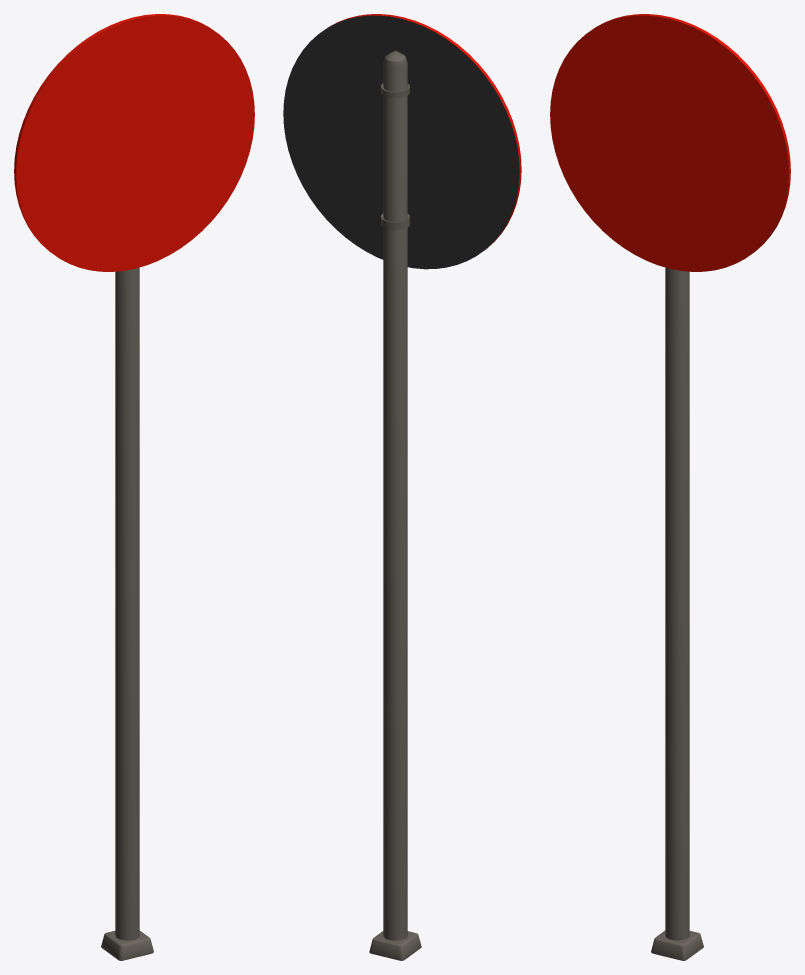
Rendered from street_sign2.fbx.
3 views of the same model, side by side, from view 1: azimuth 30°, elevation 25°; view 2: azimuth 150°, elevation 25°; view 3: azimuth 330°, elevation 25° (orthographic).
Parts seen in each view (by area): view 1: Sign_1.003; view 2: Sign_1.003; view 3: Sign_1.003.
Part boxes in pixels (box(x1,y1,x2,y2)): Sign_1.003: box(14, 14, 254, 960); Sign_1.003: box(283, 14, 521, 960); Sign_1.003: box(550, 14, 790, 960).
Size of the model in its own units: 92.36 by 347 by 13.66.
